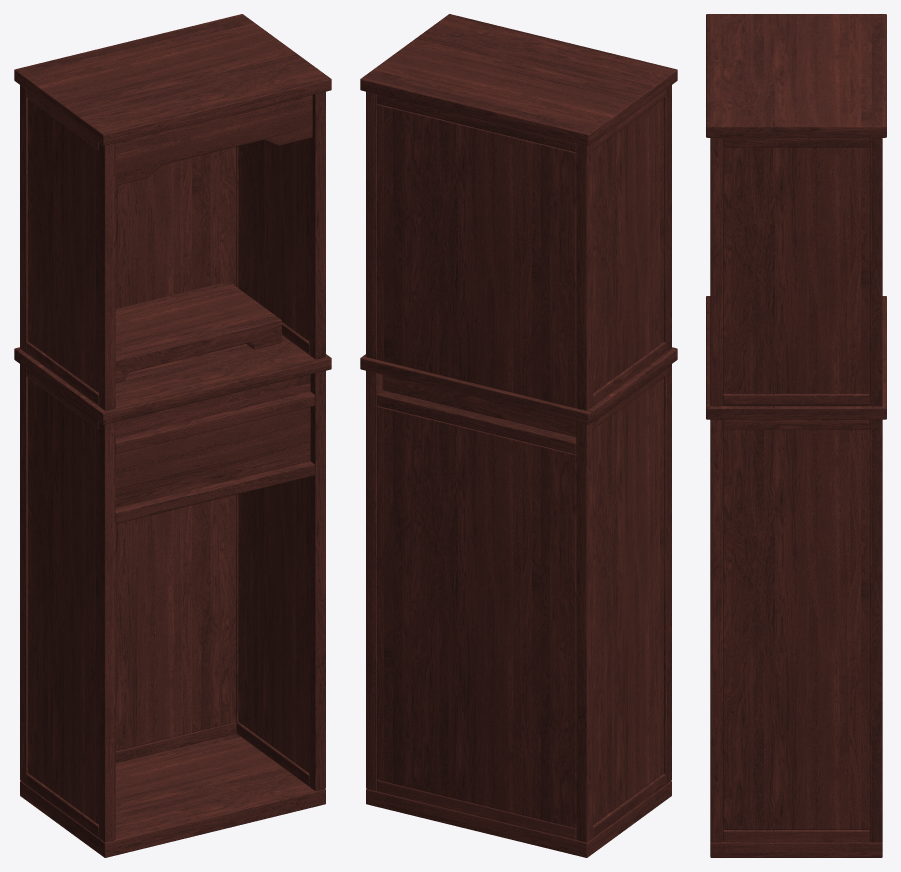
The picture shows the model from 3 angles, left to right: view 1: azimuth 30°, elevation 25°; view 2: azimuth 150°, elevation 25°; view 3: azimuth 270°, elevation 25°; orthographic projection.
Visible parts, largest first — view 1: ST-柜子; view 2: ST-柜子; view 3: ST-柜子.
Part boxes in pixels (x1,y1,x2,y2): ST-柜子: (14, 14, 331, 857); ST-柜子: (360, 14, 677, 857); ST-柜子: (706, 14, 886, 857).
Size of the model in its own units: 0.62 by 0.42 by 1.88.
